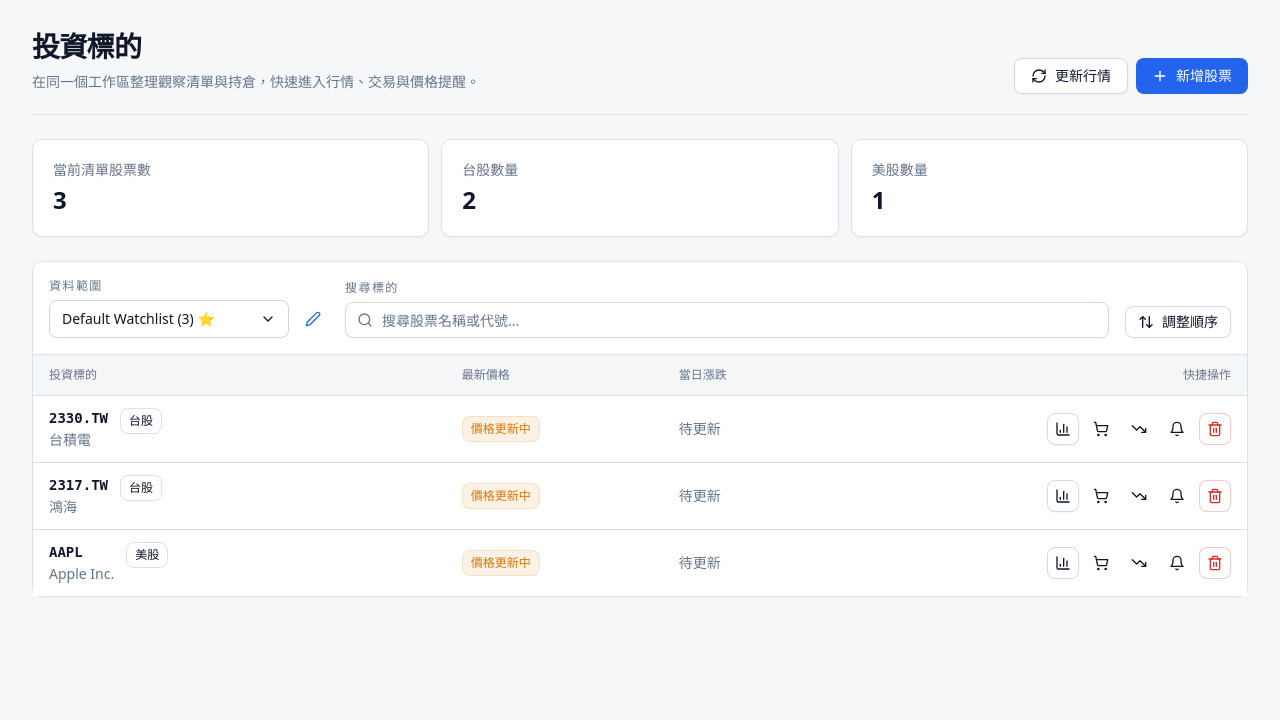
Test case: StockManagementPage - 狀態管理優化測試 › 持倉搜尋應在已載入的完整清單內完成
Click the button "Default Watchlist (3) ⭐".
click(169, 319)  # box [49,300,289,338]
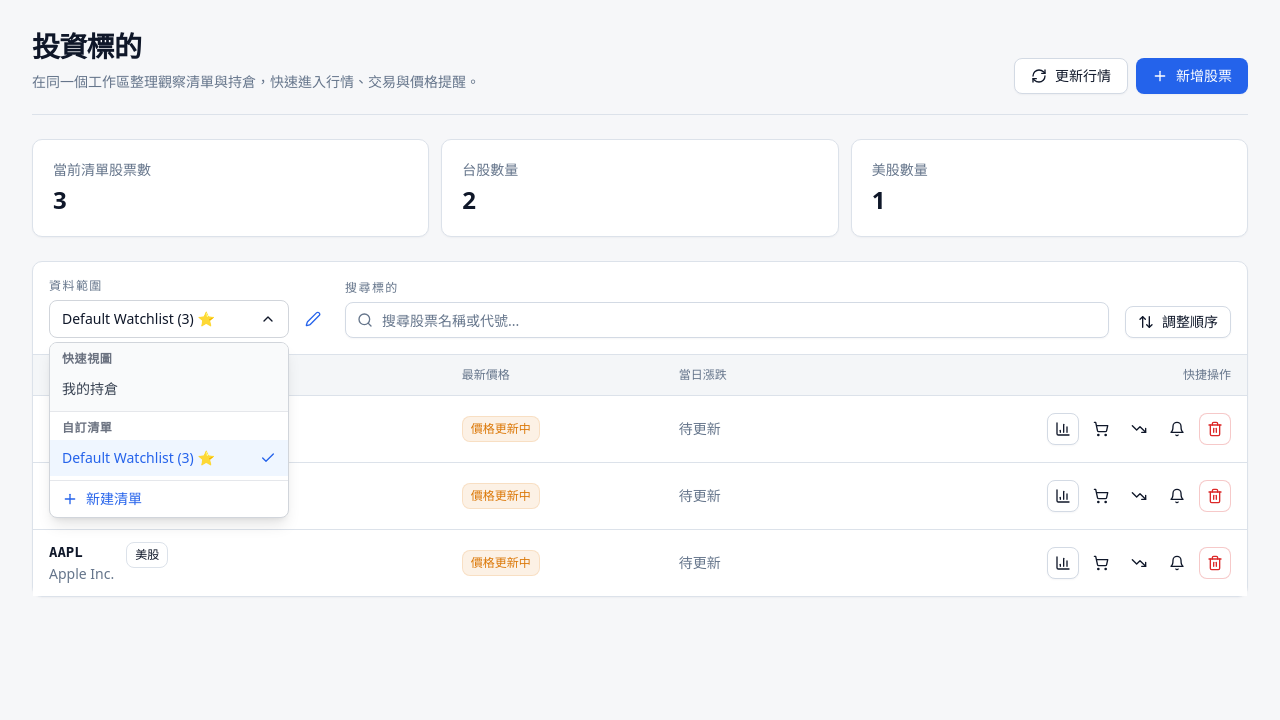
Click the button "我的持倉".
click(169, 389)  # box [50,371,288,407]
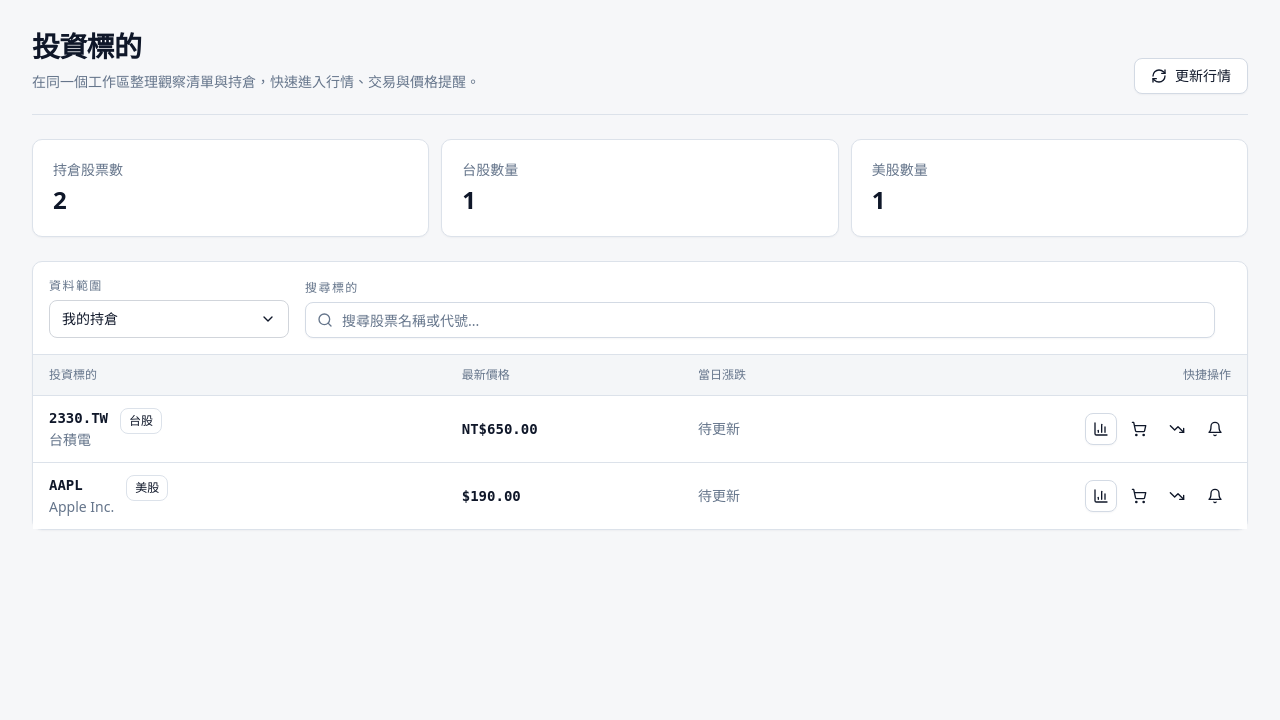
Check: the text "NT$650.00" is shown, box [462,420,538,436]
Type "AAPL" into the search field with placeholder "搜尋股票名稱或代號...".
click(760, 320); type("AAPL")  # box [305,302,1215,338]
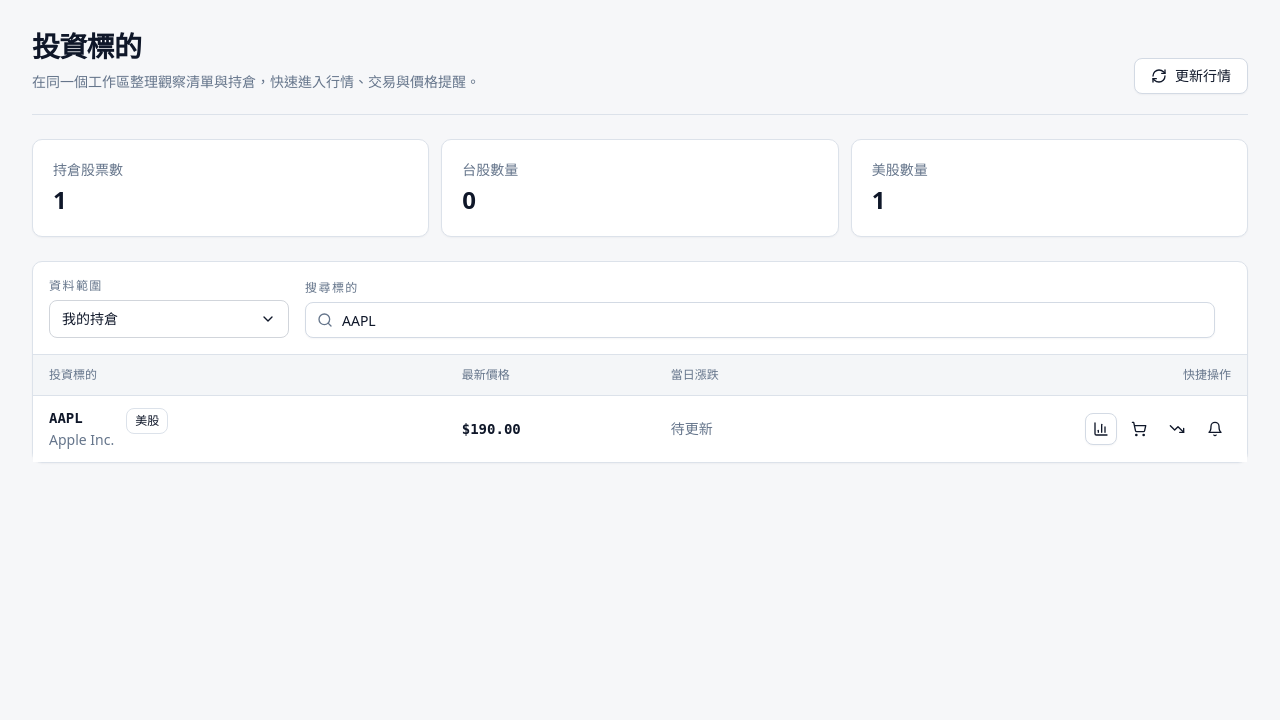
Check: the text "Apple Inc." is shown, box [49,430,114,450]
Check: the text "台積電" is gone
